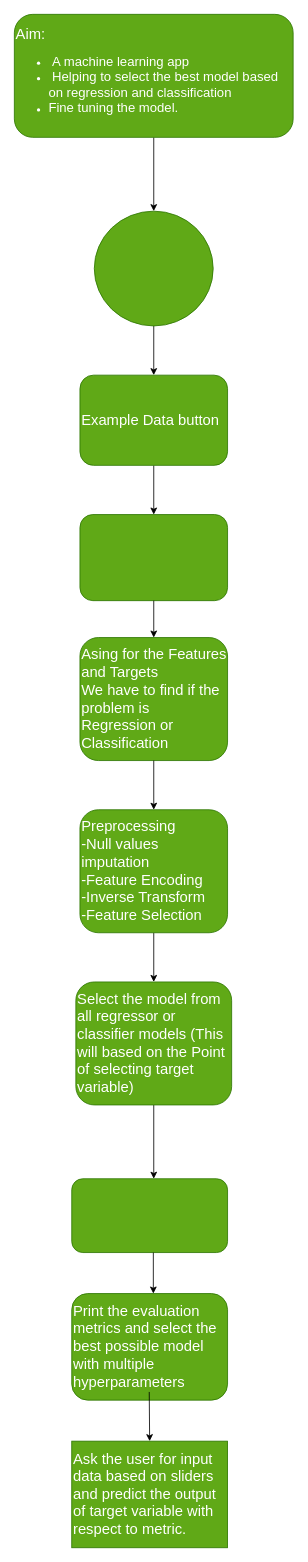
Some shapes in this 308 by 1562 pixel diagram are drawn without their labels. The centre of each missing label's shape, as x and y in pixels:
Add the evaluation metrics based on the problem: (149,1215)
Check the column names and data types: (153,557)
Load the data OR upload the data: (153,268)
